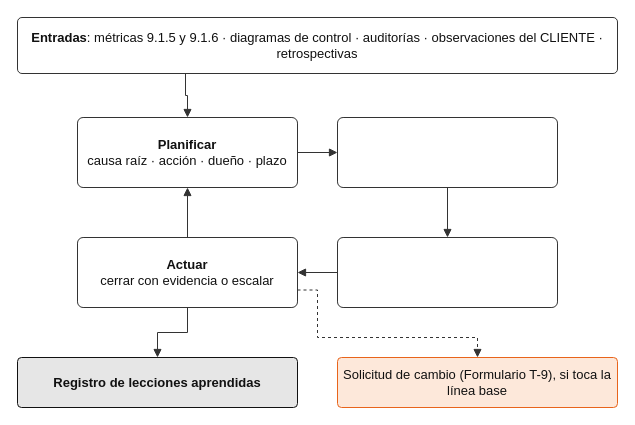
The diagram is 635 pixels wide and 425 high, and some of its shapes have lost their labels. Each missing label, with the centre of its shape:
"Hacer corregir proceso, control o prueba" goes at [447,152].
"Verificar en el comité mensual siguiente, contra el mismo criterio" goes at [447,272].
